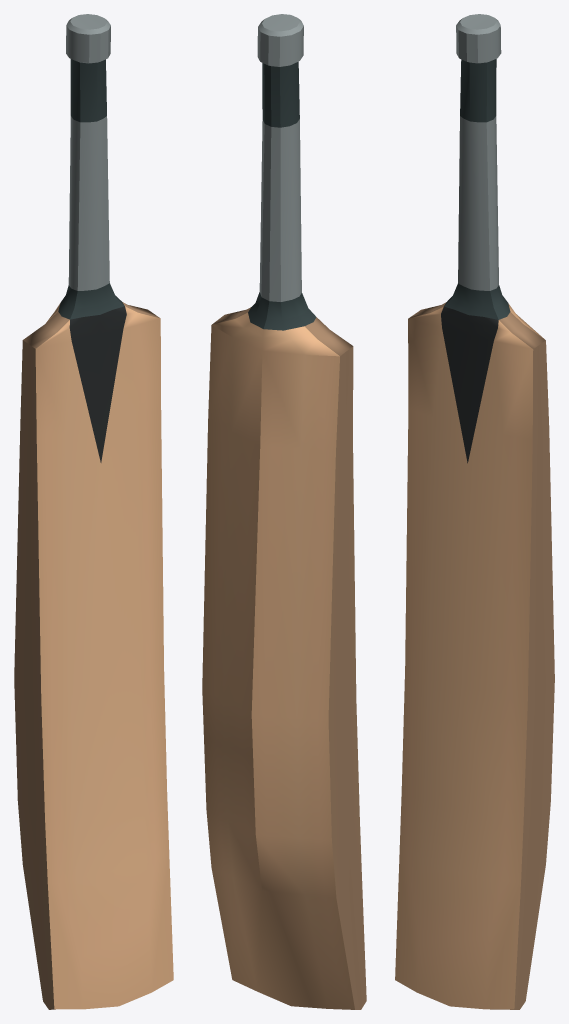
The model's file is PP_Bat1.fbx.
3 views of the same model, side by side, from view 1: azimuth 30°, elevation 25°; view 2: azimuth 150°, elevation 25°; view 3: azimuth 330°, elevation 25° (orthographic). The views are drawn at different scales.
Parts seen in each view (by area): view 1: Bat_1; view 2: Bat_1; view 3: Bat_1.
Boxes of the visible parts, x1=… form: Bat_1: x1=14, y1=14, x2=173, y2=1009; Bat_1: x1=202, y1=14, x2=366, y2=1009; Bat_1: x1=395, y1=14, x2=554, y2=1009.
Size of the model in its own units: 13.1 by 96.99 by 10.34.
